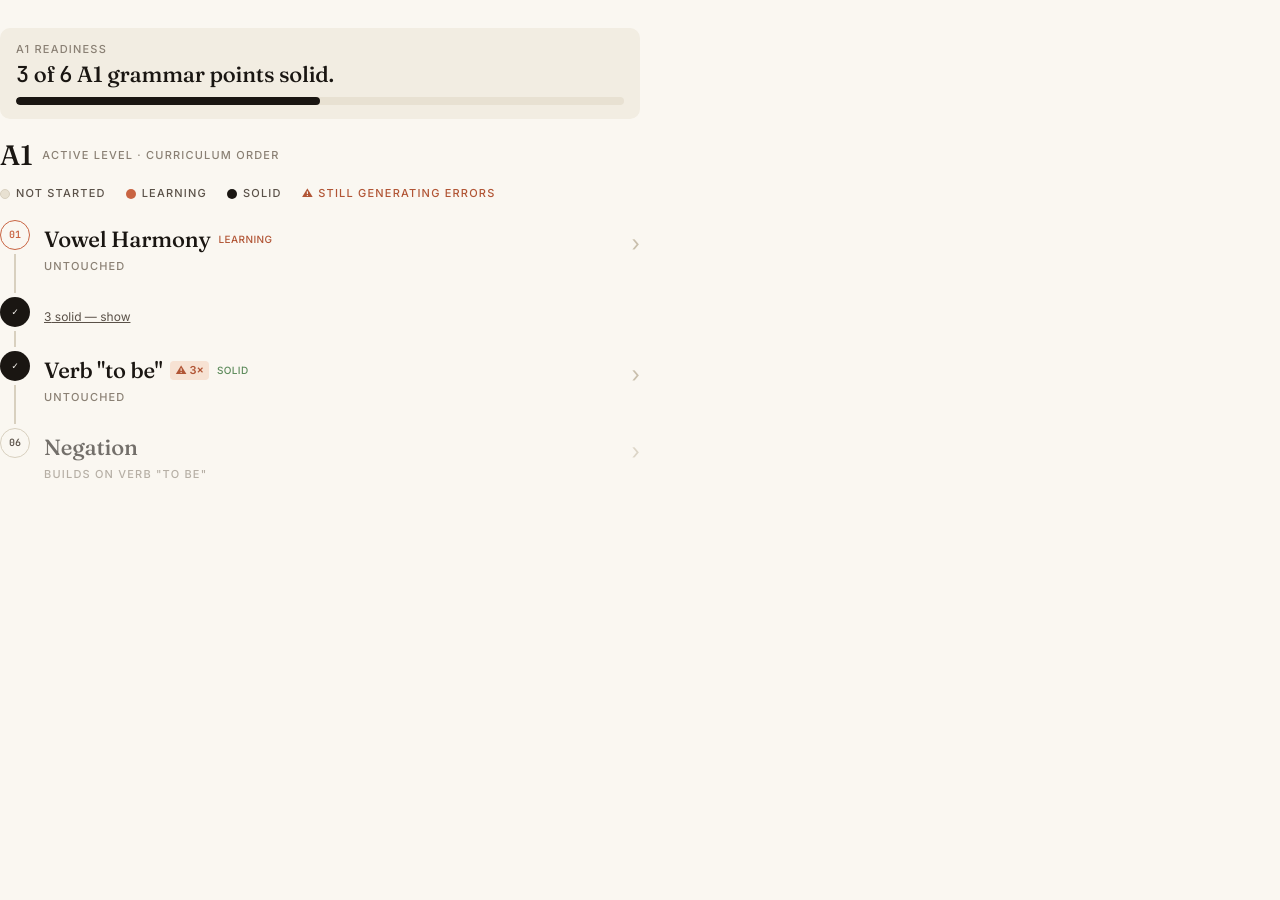
MapTab › clicking a point row opens the detail sheet with the point name
Click the "Vowel Harmony" point row body (it's a button)
Step 1. Click the text "Vowel Harmony" → (127, 240), box [44,226,211,253]
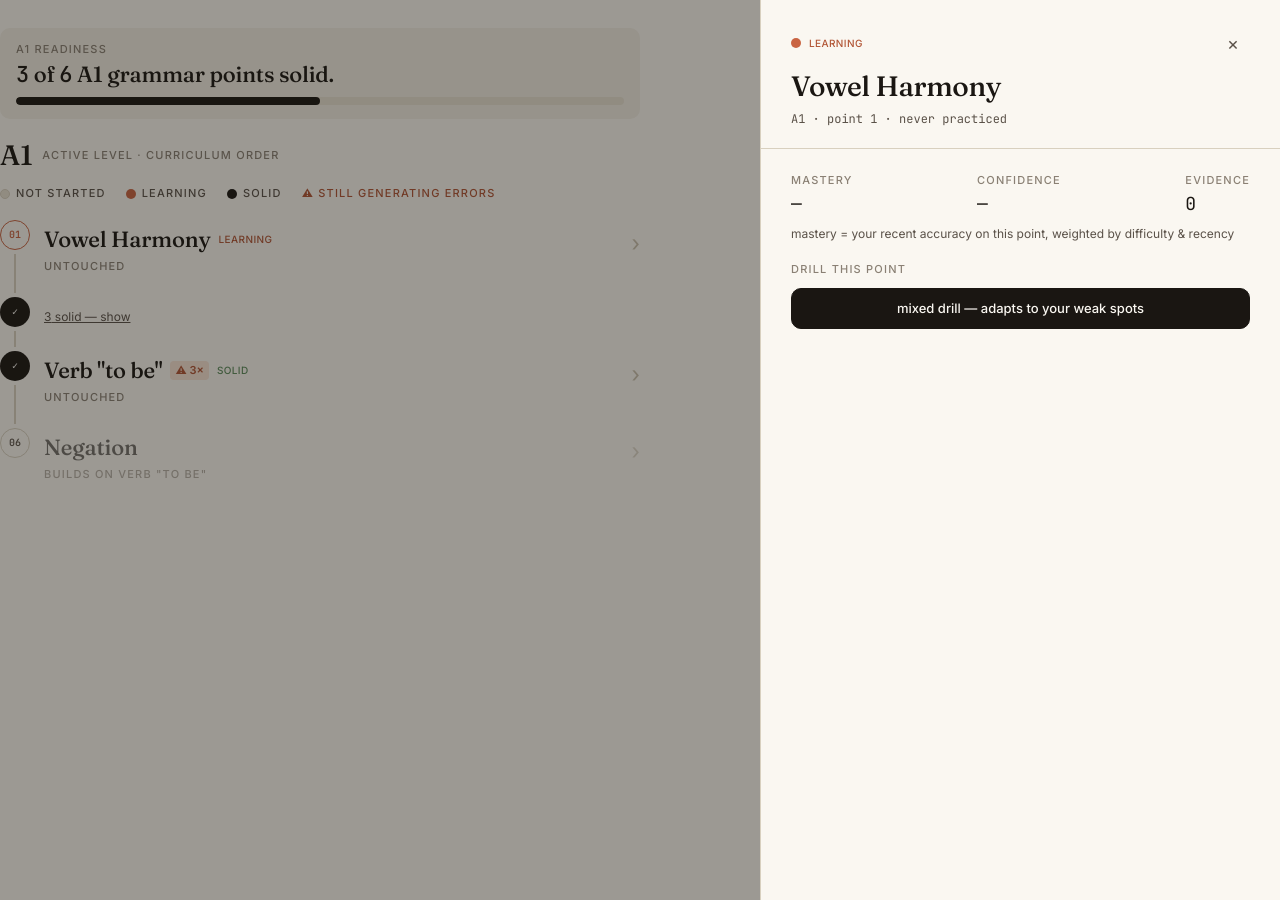
Check: the dialog is shown, box [760,0,1279,899]
